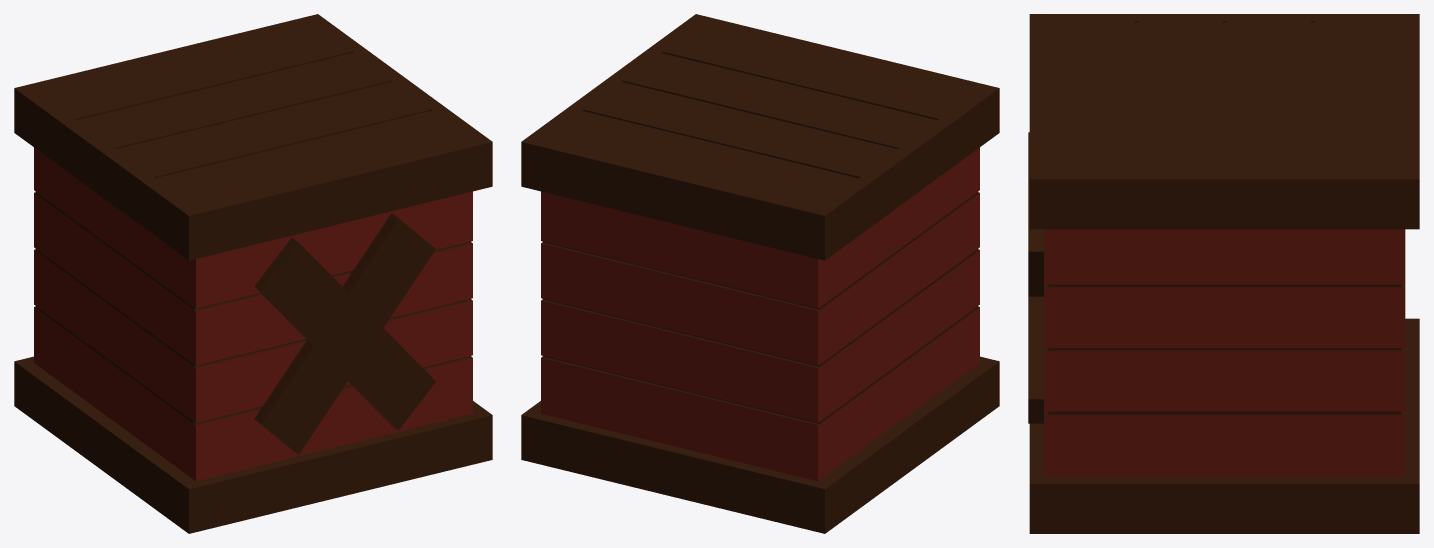
3 renders of one model, left to right at view 1: azimuth 30°, elevation 25°; view 2: azimuth 150°, elevation 25°; view 3: azimuth 270°, elevation 25°, orthographic. The views are drawn at different scales.
Visible parts, largest first — view 1: Cube.001; view 2: Cube.001; view 3: Cube.001.
Boxes of the visible parts, left/top/right/bottom form: Cube.001: left=14, top=14, right=492, bottom=533; Cube.001: left=521, top=14, right=999, bottom=533; Cube.001: left=1028, top=14, right=1419, bottom=533.
Size of the model in its own units: 100 by 100 by 100.
